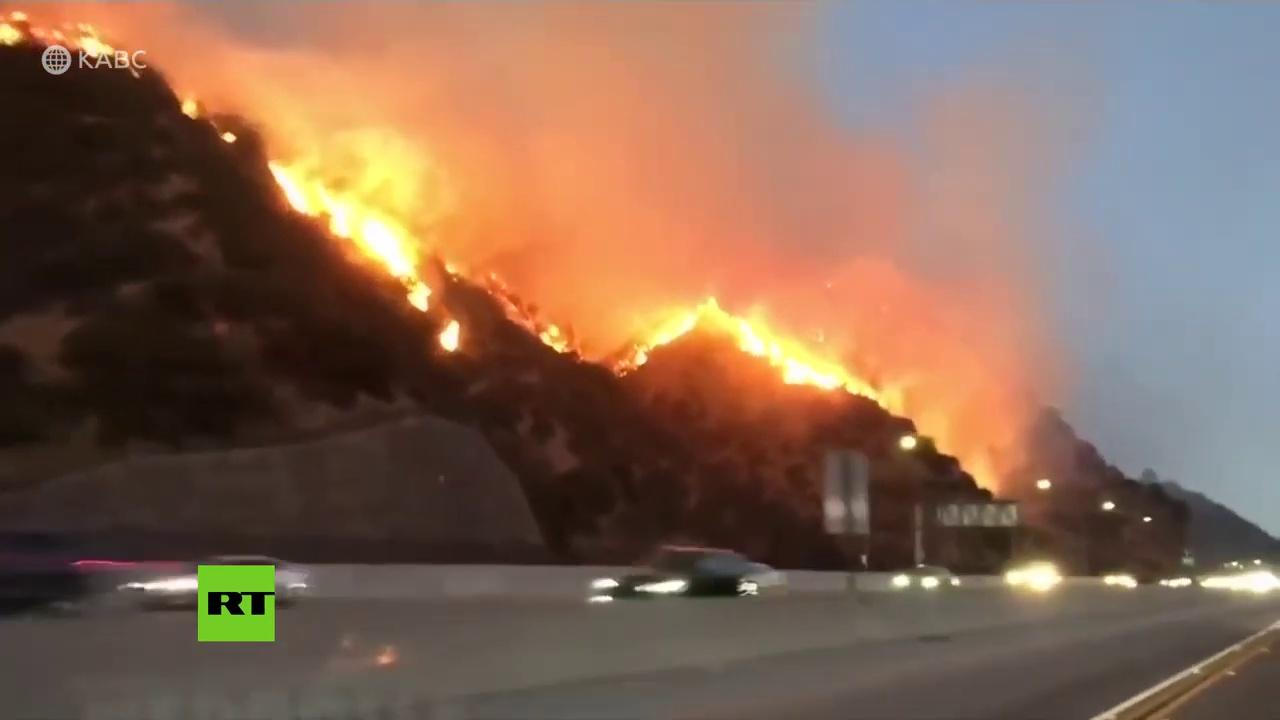Fire: (623, 294, 889, 408), (270, 155, 427, 307), (2, 4, 112, 57), (541, 322, 574, 359), (433, 321, 468, 353)
